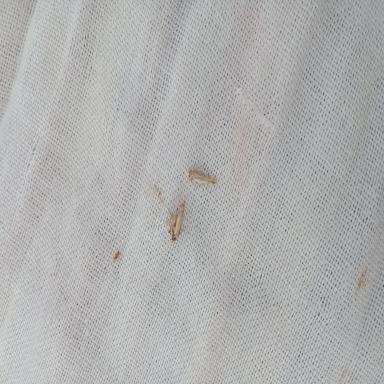pbw: (157, 194, 185, 243), (187, 168, 216, 187)
